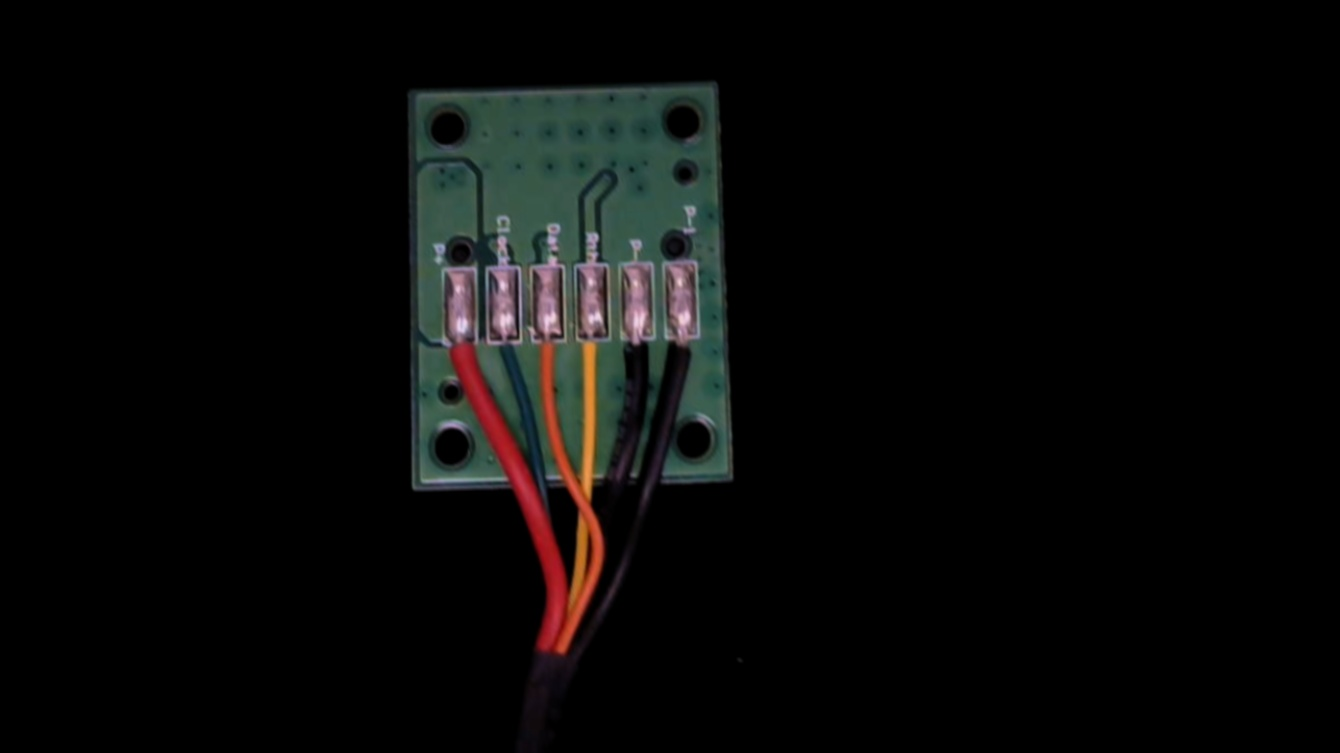Black: (616, 322, 657, 401)
Black1: (664, 321, 701, 391)
Green: (487, 322, 526, 392)
Orange: (528, 320, 567, 395)
Red: (440, 328, 479, 401)
Yellow: (572, 323, 610, 399)
